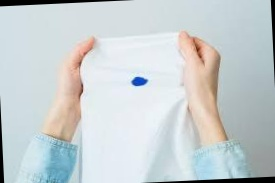ink: (130, 76, 149, 86)
